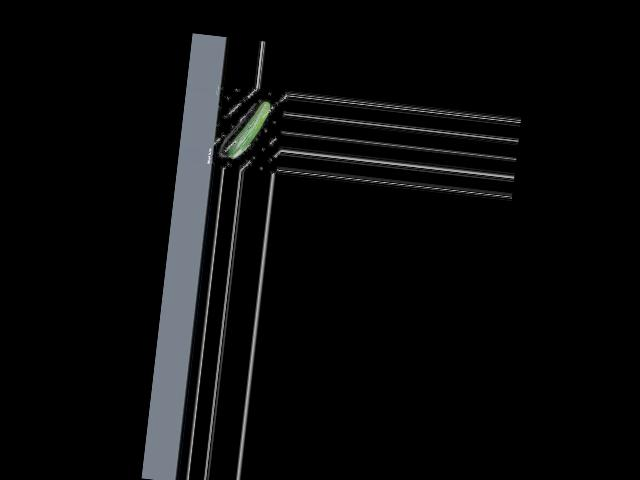cucumber: (226, 97, 270, 161)
